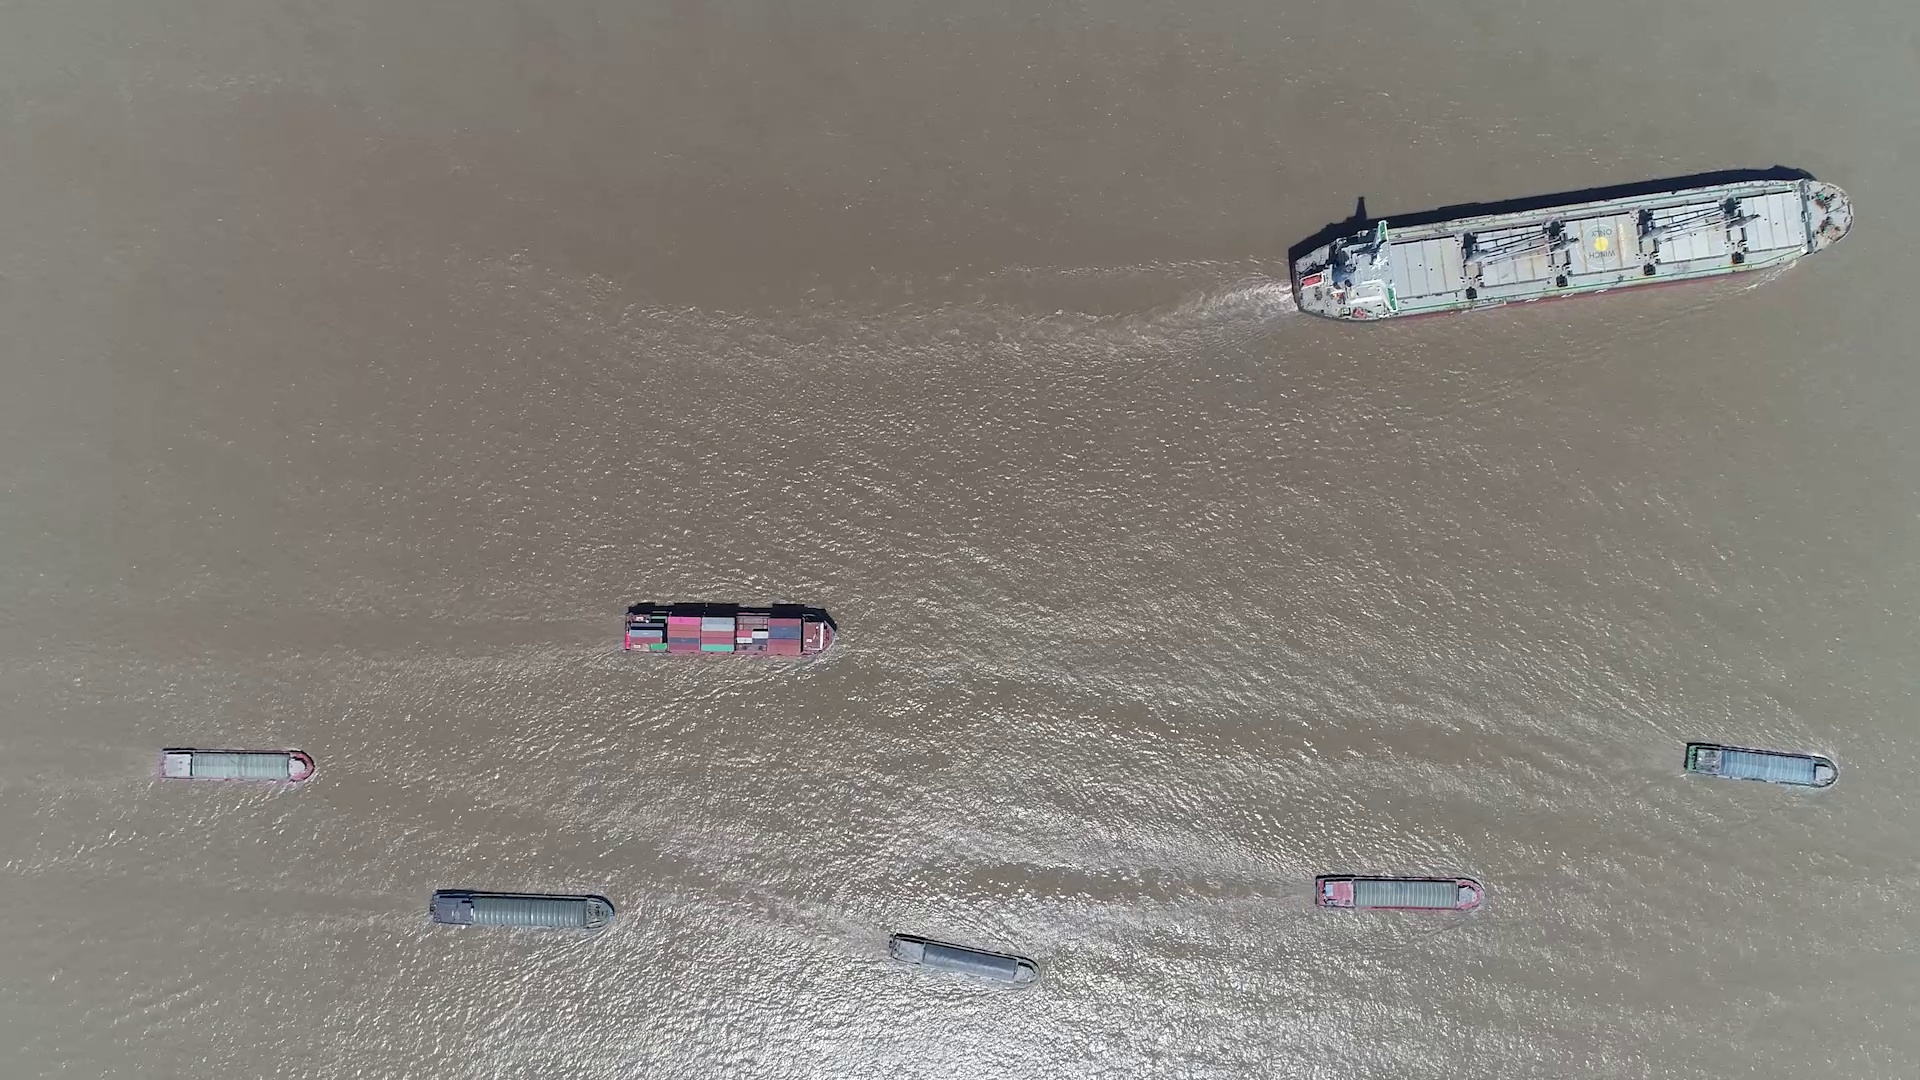ship: (1287, 177, 1854, 320), (622, 607, 833, 658), (887, 934, 1036, 985), (426, 890, 612, 930), (1683, 741, 1837, 789), (1313, 876, 1484, 913), (158, 746, 313, 782)
